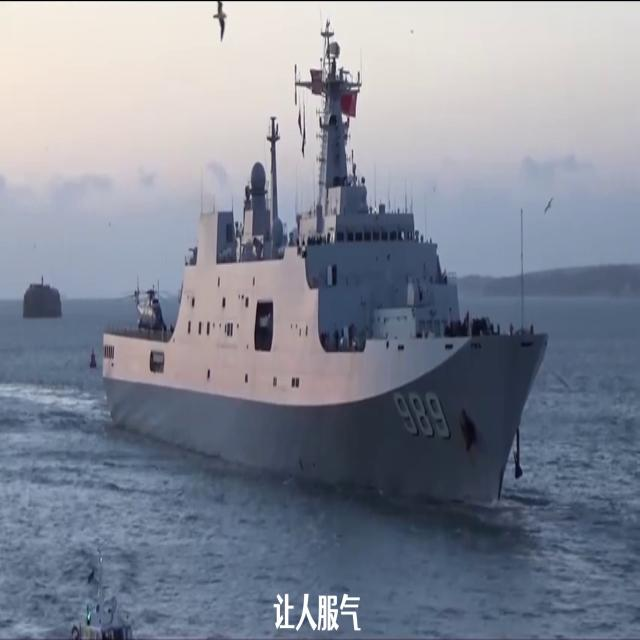navalvessels: (96, 37, 544, 498)
